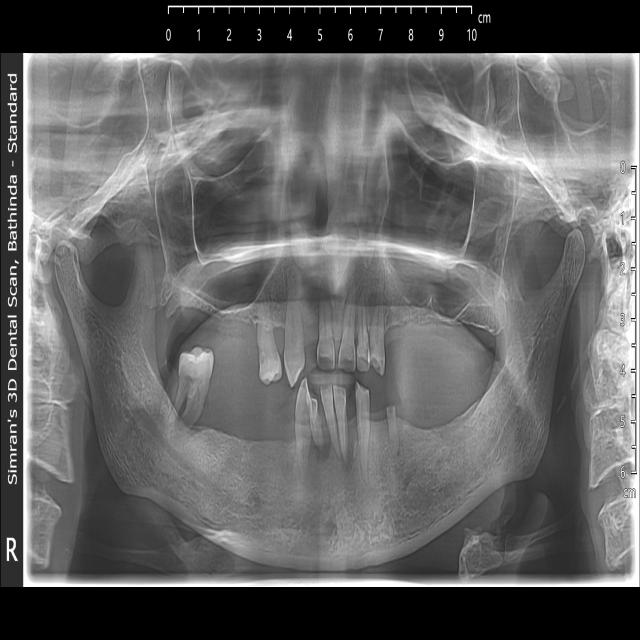Caries: (256, 323, 281, 383)
Missing teeth: (202, 398, 291, 461), (391, 295, 474, 358), (398, 382, 472, 450), (304, 299, 318, 363)
Periapical lesion: (334, 434, 357, 477), (312, 426, 333, 463)
